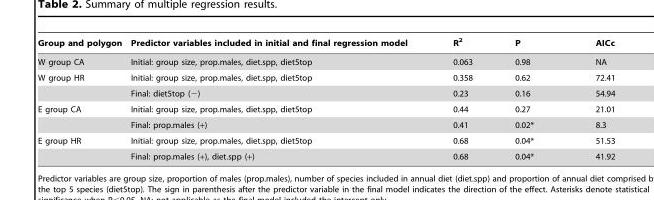table: (37, 36, 614, 161)
table column: (125, 36, 429, 161), (37, 36, 125, 161), (493, 36, 563, 161), (429, 36, 493, 161), (563, 36, 614, 161)
table column header: (37, 36, 614, 52)
table row: (37, 52, 614, 69), (37, 115, 614, 132), (37, 36, 614, 52), (37, 69, 614, 85), (37, 85, 614, 101), (37, 132, 614, 147), (37, 101, 614, 115), (37, 147, 614, 161)
table spanning cell: (37, 69, 125, 101), (37, 101, 125, 132), (37, 132, 125, 161)
